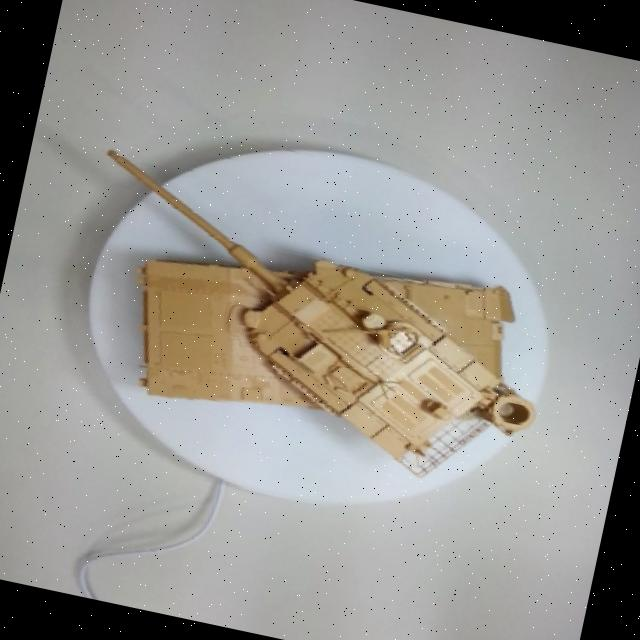korea tank: (0, 98, 596, 544)
